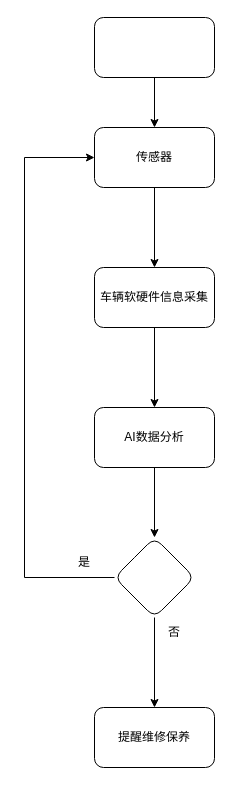
Image size: 232x785. Some labels were removed from this diagram. Each missing label, with the centre of its shape:
"开始" belongs at point 154,47.
"车辆是否健康" belongs at point 154,577.
